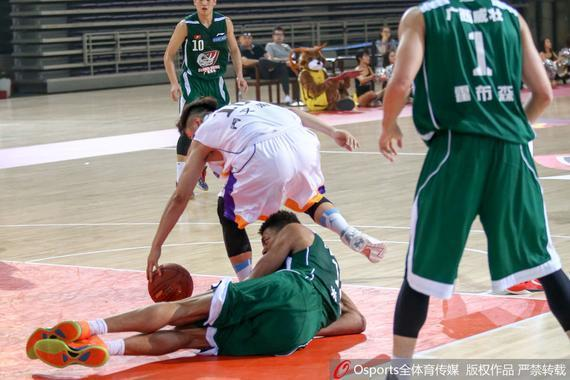bending: (137, 92, 387, 282)
down: (20, 202, 364, 369)
up: (370, 1, 570, 369), (164, 1, 250, 110)
